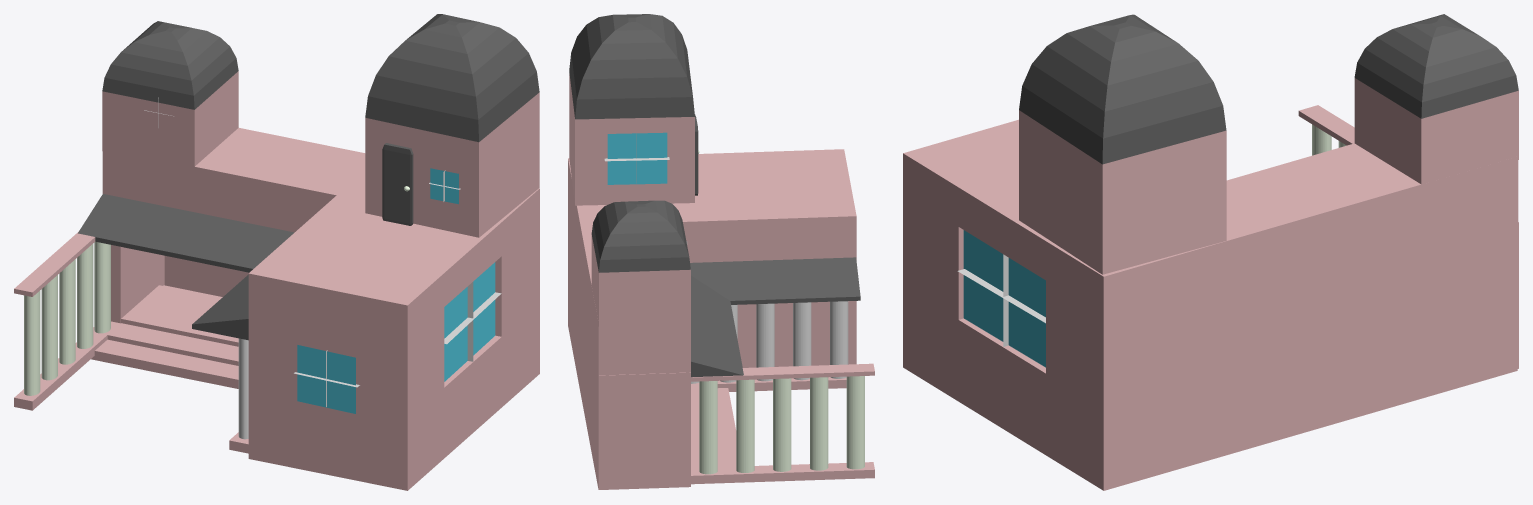
Rendered from Extracteur pierrre.fbx.
3 renders of one model, left to right at view 1: azimuth 30°, elevation 25°; view 2: azimuth 150°, elevation 25°; view 3: azimuth 270°, elevation 25°, orthographic. The views are drawn at different scales.
Parts seen in each view (by area): view 1: Collection 2|HouseMain|Dupli|18, Collection 2|Coupole.001|Dupli|40, Collection 2|Cube.001|Dupli|38, Collection 2|Coupole|Dupli|41, Collection 2|Cube.003|Dupli|36, Collection 2|Cube.009|Dupli|31, Collection 2|Cube.010|Dupli|30, Collection 2|window z.005|Dupli|, Collection 2|window z.004|Dupli|1, Collection 2|Cube|Dupli|39, Collection 2|Cube.008|Dupli|32, Collection 2|porte|Dupli|15 (+11 smaller); view 2: Collection 2|HouseMain|Dupli|18, Collection 2|Coupole.001|Dupli|40, Collection 2|Coupole|Dupli|41, Collection 2|Cube|Dupli|39, Collection 2|Cube.052|Dupli|29, Collection 2|Cube.001|Dupli|38, Collection 2|Cube.003|Dupli|36, Collection 2|Plane|Dupli|17, Collection 2|Cube.002|Dupli|37, Collection 2|window z.002|Dupli|3, Collection 2|Cube.005|Dupli|34, Collection 2|Cylinder.003|Dupli|26 (+10 smaller); view 3: Collection 2|HouseMain|Dupli|18, Collection 2|Plane|Dupli|17, Collection 2|Coupole.001|Dupli|40, Collection 2|Coupole|Dupli|41, Collection 2|Cube.001|Dupli|38, Collection 2|window z.004|Dupli|1, Collection 2|Cube.005|Dupli|34, Collection 2|Cube|Dupli|39.
Boxes of the visible parts, x1,y1,x2,y2 form: Collection 2|HouseMain|Dupli|18: [248, 176, 539, 490]; Collection 2|Coupole.001|Dupli|40: [365, 14, 539, 237]; Collection 2|Cube.001|Dupli|38: [102, 128, 365, 232]; Collection 2|Coupole|Dupli|41: [102, 21, 238, 169]; Collection 2|Cube.003|Dupli|36: [78, 194, 294, 272]; Collection 2|Cube.009|Dupli|31: [121, 285, 238, 346]; Collection 2|Cube.010|Dupli|30: [91, 339, 238, 388]; Collection 2|window z.005|Dupli|: [297, 345, 355, 413]; Collection 2|window z.004|Dupli|1: [444, 262, 495, 381]; Collection 2|Cube|Dupli|39: [111, 245, 164, 323]; Collection 2|Cube.008|Dupli|32: [103, 322, 238, 365]; Collection 2|porte|Dupli|15: [382, 143, 413, 225]; Collection 2|HouseMain|Dupli|18: [568, 149, 856, 379]; Collection 2|Coupole.001|Dupli|40: [569, 14, 694, 205]; Collection 2|Coupole|Dupli|41: [591, 200, 690, 326]; Collection 2|Cube|Dupli|39: [597, 369, 690, 489]; Collection 2|Cube.052|Dupli|29: [690, 257, 860, 304]; Collection 2|Cube.001|Dupli|38: [580, 225, 690, 375]; Collection 2|Cube.003|Dupli|36: [691, 275, 743, 377]; Collection 2|Plane|Dupli|17: [578, 215, 598, 489]; Collection 2|Cube.002|Dupli|37: [617, 462, 874, 486]; Collection 2|window z.002|Dupli|3: [607, 132, 667, 184]; Collection 2|Cube.005|Dupli|34: [617, 363, 874, 384]; Collection 2|Cylinder.003|Dupli|26: [810, 377, 828, 470]; Collection 2|HouseMain|Dupli|18: [903, 119, 1270, 490]; Collection 2|Plane|Dupli|17: [1241, 156, 1517, 450]; Collection 2|Coupole.001|Dupli|40: [1019, 14, 1226, 274]; Collection 2|Coupole|Dupli|41: [1354, 14, 1518, 184]; Collection 2|Cube.001|Dupli|38: [1226, 143, 1518, 229]; Collection 2|window z.004|Dupli|1: [963, 230, 1045, 367]; Collection 2|Cube.005|Dupli|34: [1298, 105, 1354, 145]; Collection 2|Cube|Dupli|39: [1499, 222, 1518, 369].
Size of the model in its own units: 489 by 393 by 521.
